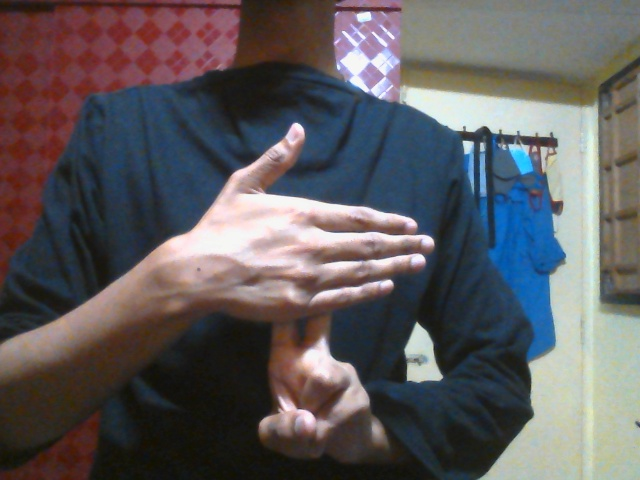N: (186, 117, 431, 462)
